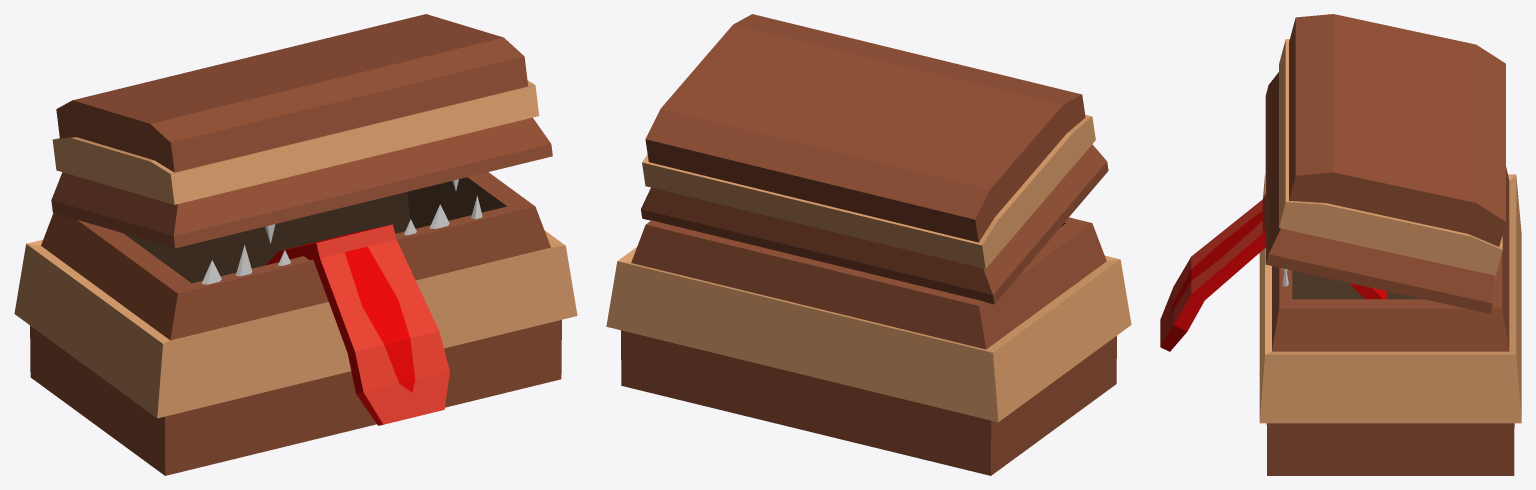
File: bauzinho.fbx
3 views of the same model, side by side, from view 1: azimuth 30°, elevation 25°; view 2: azimuth 150°, elevation 25°; view 3: azimuth 270°, elevation 25° (orthographic). The views are drawn at different scales.
Parts seen in each view (by area): view 1: Cube, Cube.001, Cube.002; view 2: Cube.001, Cube; view 3: Cube.001, Cube, Cube.002.
Boxes of the visible parts, box(x1,y1,x2,y2) form: Cube: box(14, 172, 577, 475); Cube.001: box(51, 14, 552, 248); Cube.002: box(265, 224, 449, 425); Cube.001: box(641, 14, 1108, 304); Cube: box(606, 217, 1131, 475); Cube.001: box(1265, 14, 1505, 313); Cube: box(1259, 167, 1521, 475); Cube.002: box(1160, 194, 1386, 351).
Bounding box in the file's own units: 279 × 203 × 227.
